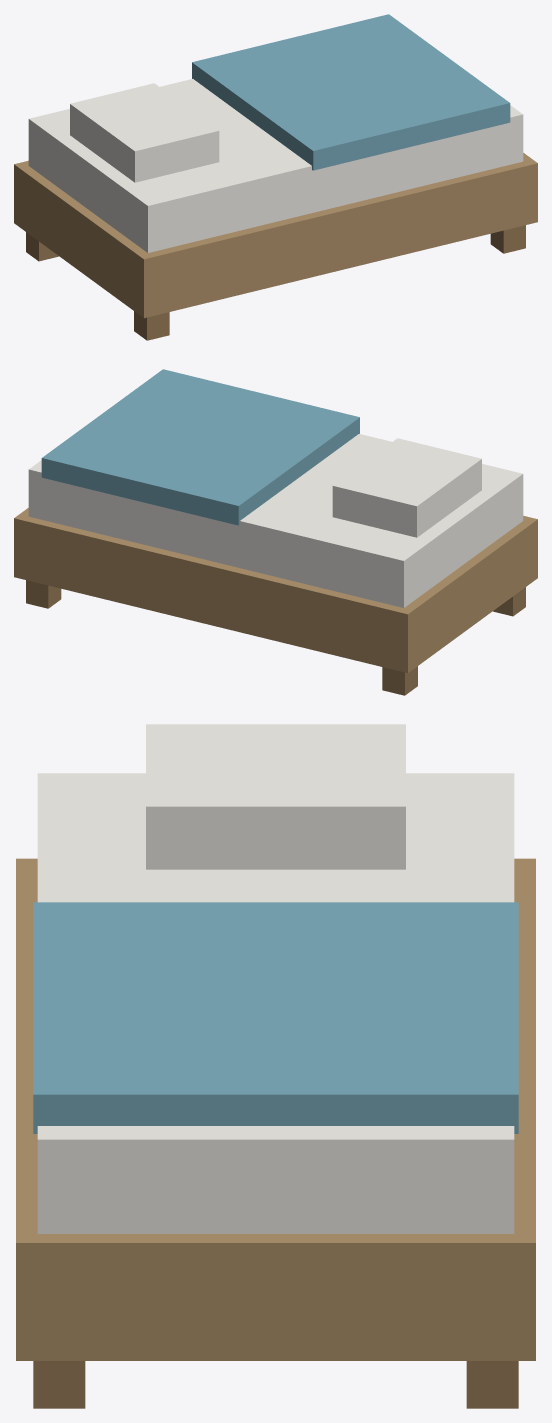
The model's file is bed.glb.
3 renders of one model, top to bottom at view 1: azimuth 30°, elevation 25°; view 2: azimuth 150°, elevation 25°; view 3: azimuth 270°, elevation 25°, orthographic. The views are drawn at different scales.
Parts seen in each view (by area): view 1: BedFrame, BedMattress, BedBlanket, BedPillow, BedLeg, BedLeg.002, BedLeg.001; view 2: BedFrame, BedMattress, BedBlanket, BedPillow, BedLeg.001, BedLeg.003, BedLeg; view 3: BedBlanket, BedMattress, BedFrame, BedPillow, BedLeg.002, BedLeg.003.
Part boxes in pixels (x1,y1,x2,y2): BedFrame: (14,153,537,318); BedMattress: (28,79,523,252); BedBlanket: (192,14,510,170); BedPillow: (70,83,219,182); BedLeg: (134,311,169,340); BedLeg.002: (490,225,525,253); BedLeg.001: (26,232,58,261); BedFrame: (14,508,537,673); BedMattress: (28,434,523,607); BedBlanket: (41,369,359,525); BedPillow: (332,438,481,537); BedLeg.001: (382,666,417,695); BedLeg.003: (26,580,61,608); BedLeg: (493,587,525,616); BedBlanket: (33,902,518,1133); BedMattress: (37,773,514,1233); BedFrame: (16,858,535,1360); BedPillow: (146,724,405,869); BedLeg.002: (33,1361,85,1408); BedLeg.003: (466,1361,518,1408).
Bounding box in the file's own units: 2.1 × 0.84 × 1.2.
